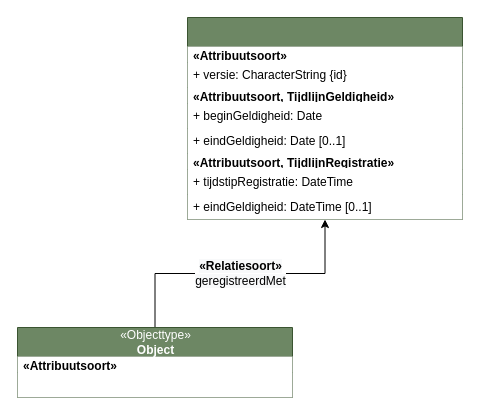
Image size: 480x415. Some labels were removed from this diagram. The box of each missing label's shape, as (x1, y1, x2, y2) in pixels:
+ identificatie: CharacterString {id}: (17, 372, 292, 397)
«Metadata» Registratiegegevens: (186, 16, 462, 220)
